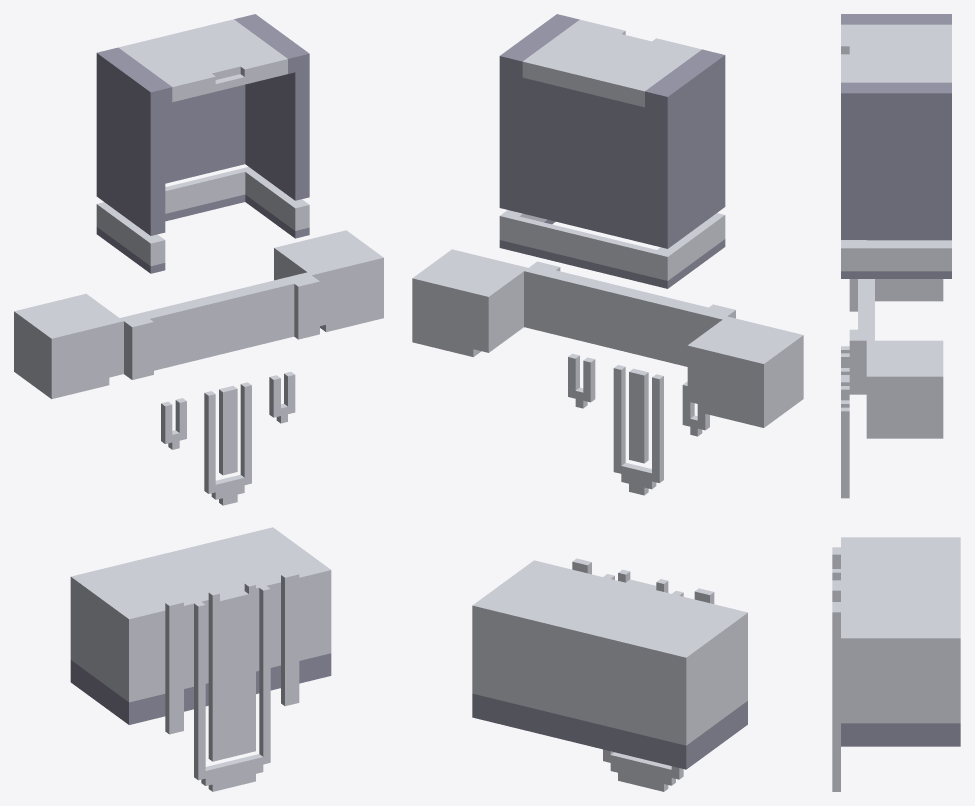
Rendered from Anubis-5.obj.
3 views of the same model, side by side, from view 1: azimuth 30°, elevation 25°; view 2: azimuth 150°, elevation 25°; view 3: azimuth 270°, elevation 25° (orthographic). The views are drawn at different scales.
Size of the model in its own units: 4.6 by 9.4 by 1.5.
1 material, 1 textured.
